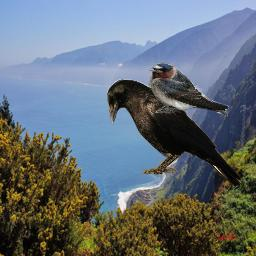Crow: (107, 79, 243, 187)
Swallow: (147, 62, 230, 116)
